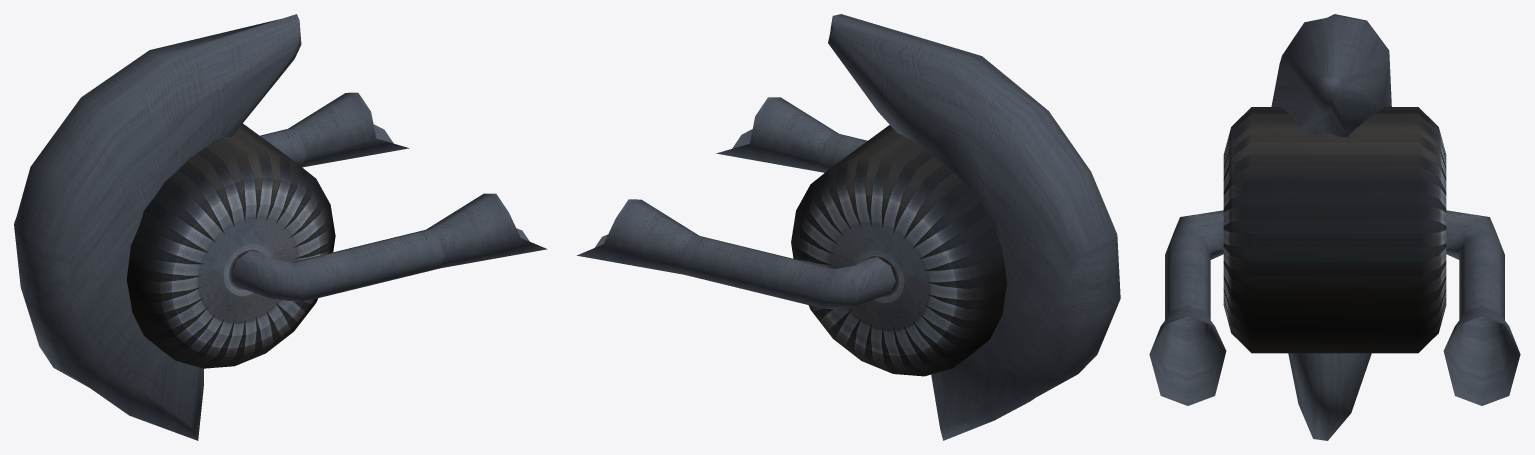
File: Enemy_Ship_1.fbx
3 renders of one model, left to right at view 1: azimuth 30°, elevation 25°; view 2: azimuth 150°, elevation 25°; view 3: azimuth 270°, elevation 25°, orthographic. The views are drawn at different scales.
Visible parts, largest first — view 1: Enemy_Ship1; view 2: Enemy_Ship1; view 3: Enemy_Ship1.
Part boxes in pixels (x1,y1,x2,y2): Enemy_Ship1: (14,14,547,440); Enemy_Ship1: (577,14,1120,440); Enemy_Ship1: (1149,14,1520,440).
Bounding box in the file's own units: 85.71 × 73.45 × 58.54.
